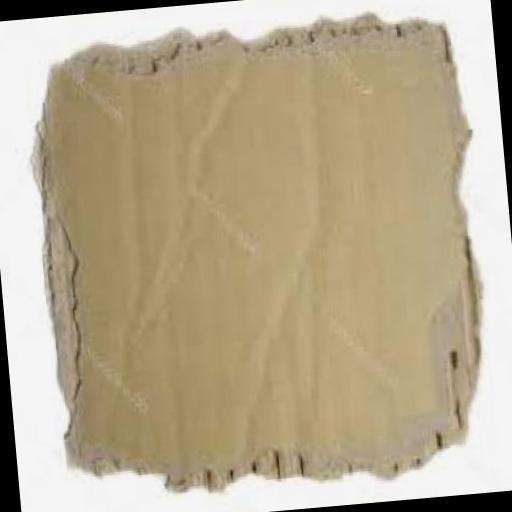cardboard: (22, 2, 504, 504)
